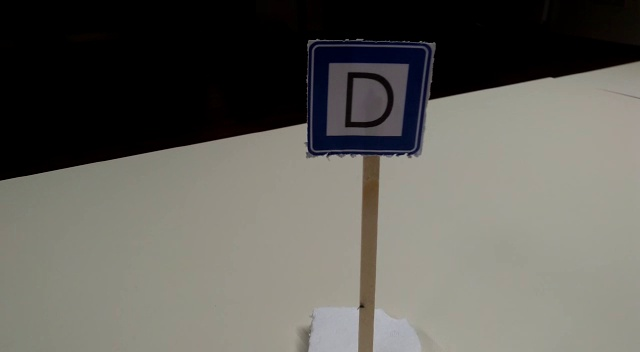durak: (307, 41, 431, 156)
